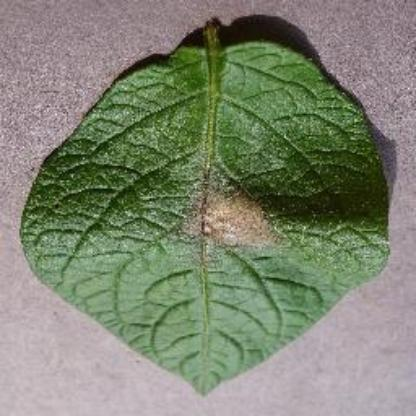Late-Blight: (18, 11, 400, 401)
